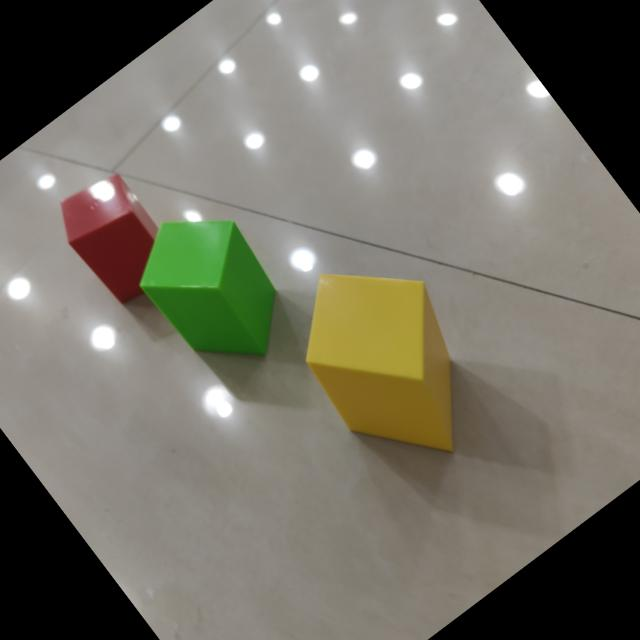green: (140, 220, 278, 360)
red: (62, 174, 159, 305)
yellow: (307, 274, 456, 452)
